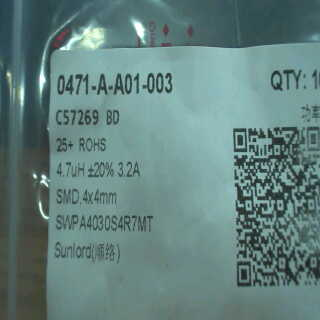4.7uH: (53, 157, 86, 182)
